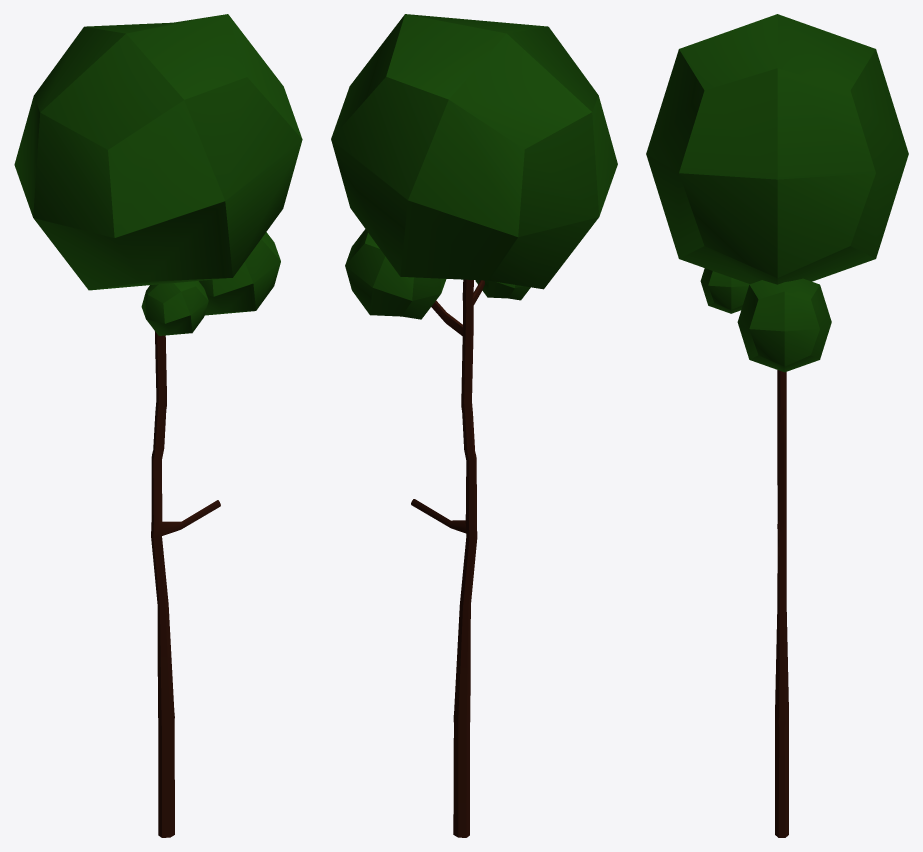
Rendered from Arbol33.fbx.
The picture shows the model from 3 angles, left to right: view 1: azimuth 30°, elevation 25°; view 2: azimuth 150°, elevation 25°; view 3: azimuth 270°, elevation 25°; orthographic projection.
Visible parts, largest first — view 1: Mesh; view 2: Mesh; view 3: Mesh.
Part boxes in pixels (left/top/right/bottom): Mesh: left=14, top=14, right=302, bottom=837; Mesh: left=331, top=14, right=617, bottom=837; Mesh: left=646, top=14, right=908, bottom=837.
Bounding box in the file's own units: 69.17 × 215 × 63.86.
